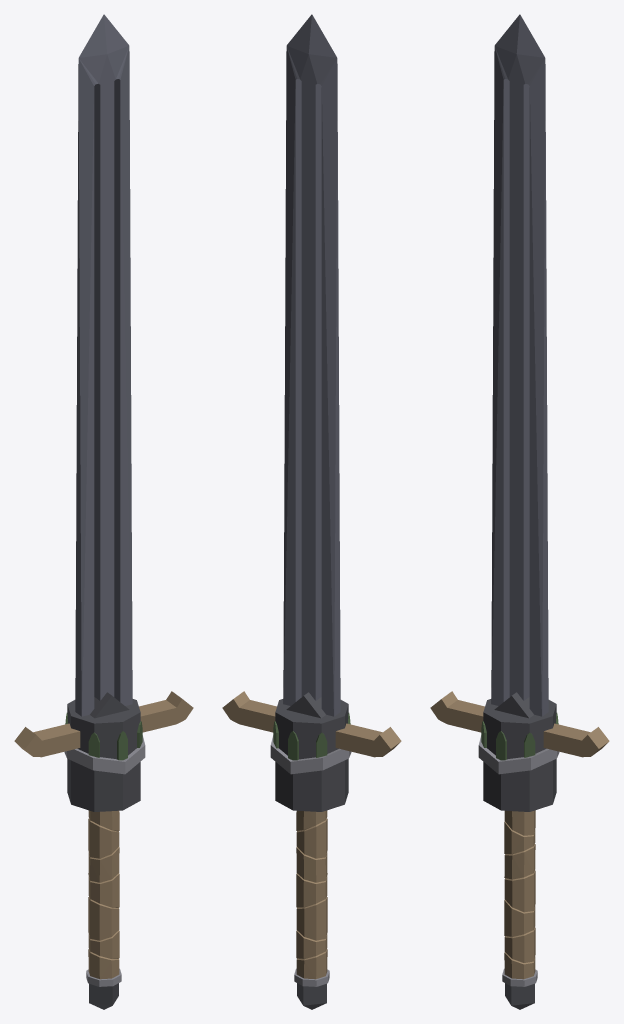
The model's file is _sword_14.fbx.
The picture shows the model from 3 angles, left to right: view 1: azimuth 30°, elevation 25°; view 2: azimuth 150°, elevation 25°; view 3: azimuth 330°, elevation 25°; orthographic projection.
Visible parts, largest first — view 1: sword_14; view 2: sword_14; view 3: sword_14.
Boxes of the visible parts, <box> form: sword_14: <box>14,14,193,1009</box>; sword_14: <box>222,14,401,1009</box>; sword_14: <box>430,14,609,1009</box>.
Bounding box in the file's own units: 25.12 × 142 × 11.01.
